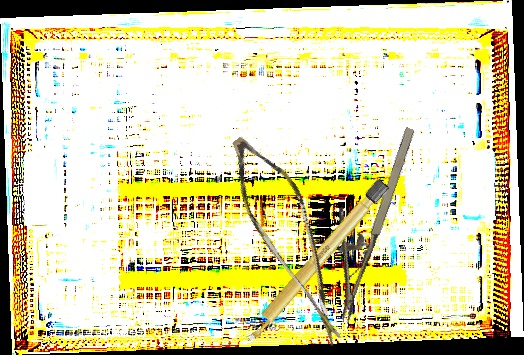Micro Scissor: (197, 127, 389, 350)
Needle Holder: (301, 115, 422, 324)
Scalpel Handle: (239, 176, 392, 348)
